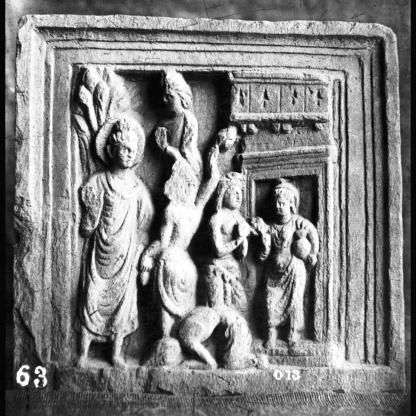buddha-standing: (79, 107, 153, 368)
